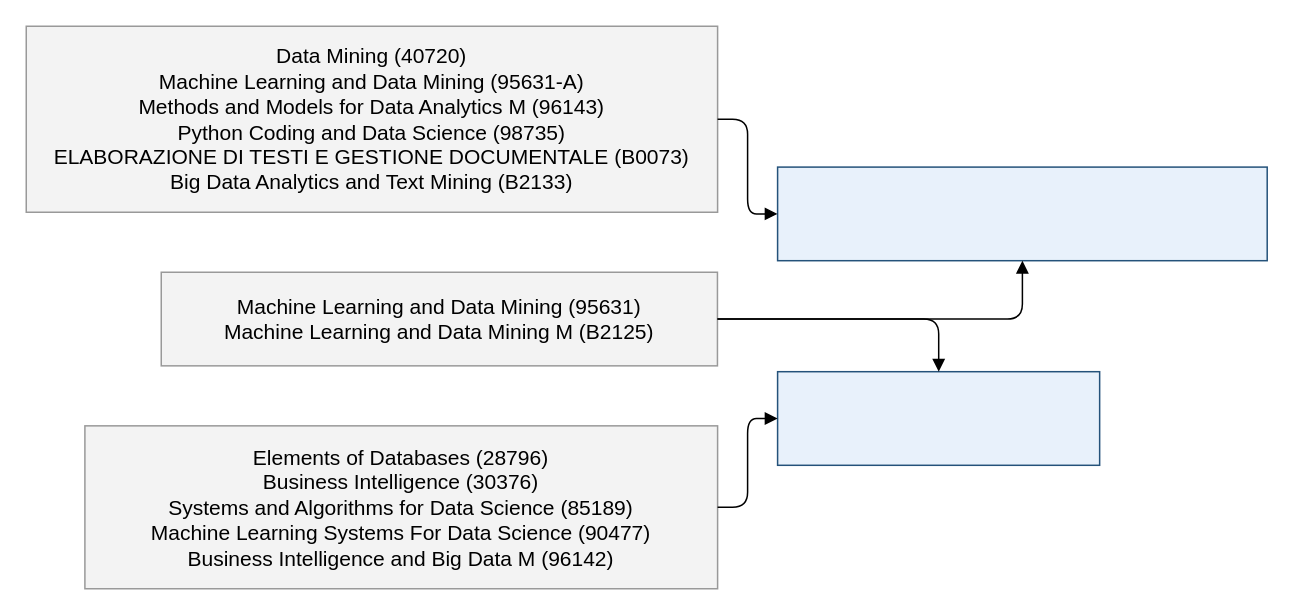
The diagram is 1295 pixels wide and 615 high, and some of its shapes have lost their labels. Each missing label, with the centre of its shape:
"Data Mining Methods and Applications 6 ECTS" belongs at (x=1021, y=213).
"Data Mining Platforms 3 ECTS" belongs at (x=938, y=417).
